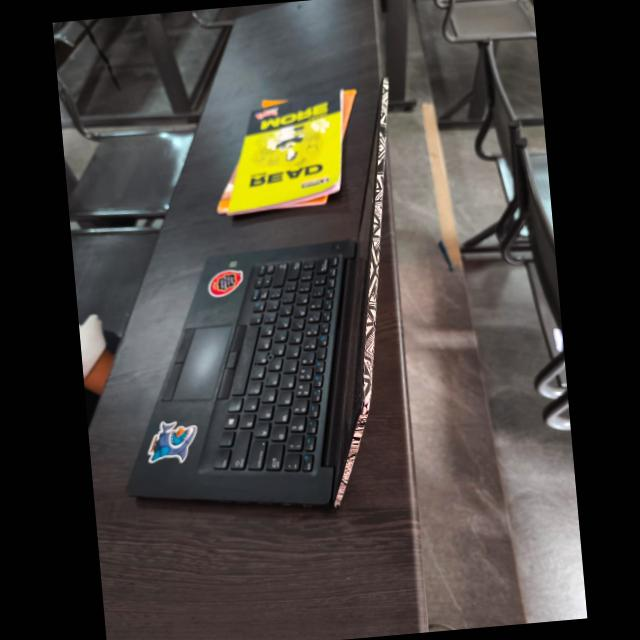laptop: (74, 205, 443, 538)
